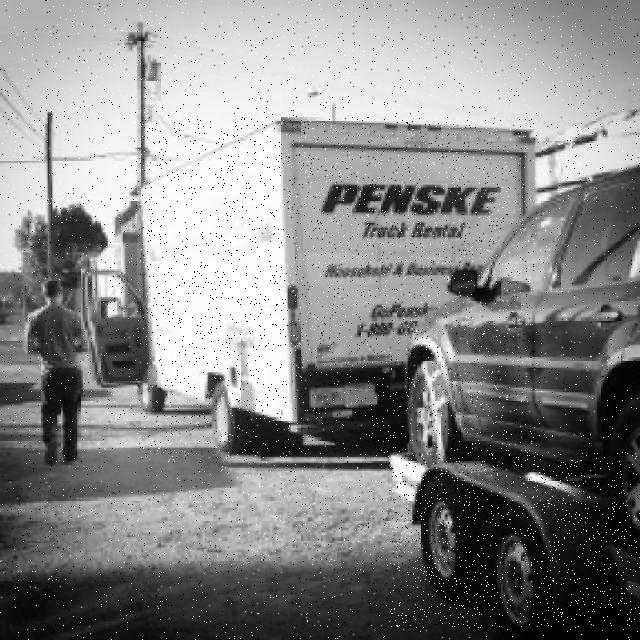Box Truck: (136, 117, 535, 459), (389, 452, 640, 628)
